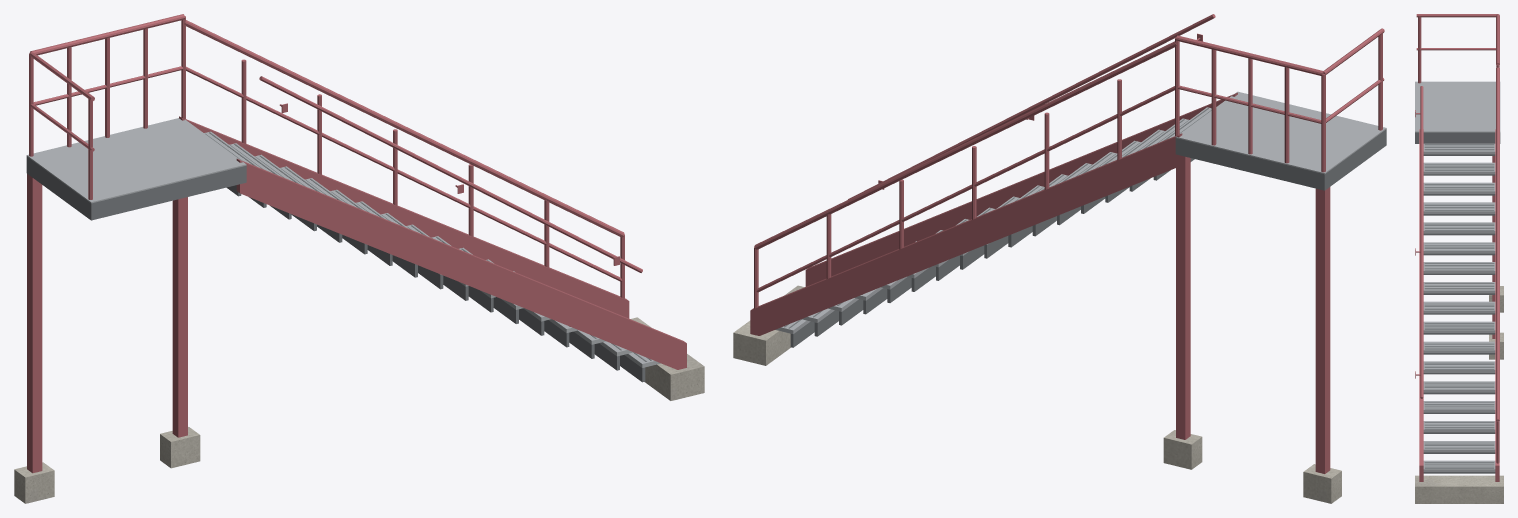
Rendered from cabin_stair.glb.
3 renders of one model, left to right at view 1: azimuth 30°, elevation 25°; view 2: azimuth 150°, elevation 25°; view 3: azimuth 270°, elevation 25°, orthographic. The views are drawn at different scales.
Parts seen in each view (by area): view 1: cabin_stair_trim, cabin_stair_steel, cabin_stair_steel_d, cabin_stair_concrete; view 2: cabin_stair_trim, cabin_stair_steel, cabin_stair_steel_d, cabin_stair_concrete; view 3: cabin_stair_steel, cabin_stair_steel_d, cabin_stair_trim, cabin_stair_concrete.
Part boxes in pixels (x1,y1,x2,y2): cabin_stair_trim: (27, 14, 686, 473); cabin_stair_steel: (26, 118, 660, 367); cabin_stair_steel_d: (26, 132, 651, 382); cabin_stair_concrete: (14, 317, 704, 503); cabin_stair_trim: (750, 14, 1384, 473); cabin_stair_steel: (775, 91, 1386, 333); cabin_stair_steel_d: (784, 108, 1386, 347); cabin_stair_concrete: (733, 285, 1341, 503); cabin_stair_steel: (1415, 81, 1500, 471); cabin_stair_steel_d: (1415, 132, 1500, 473); cabin_stair_trim: (1415, 14, 1499, 481); cabin_stair_concrete: (1415, 286, 1503, 503).
Size of the model in its own units: 6.42 by 4.37 by 1.2.
Materials: 4 (1 with a texture image).
